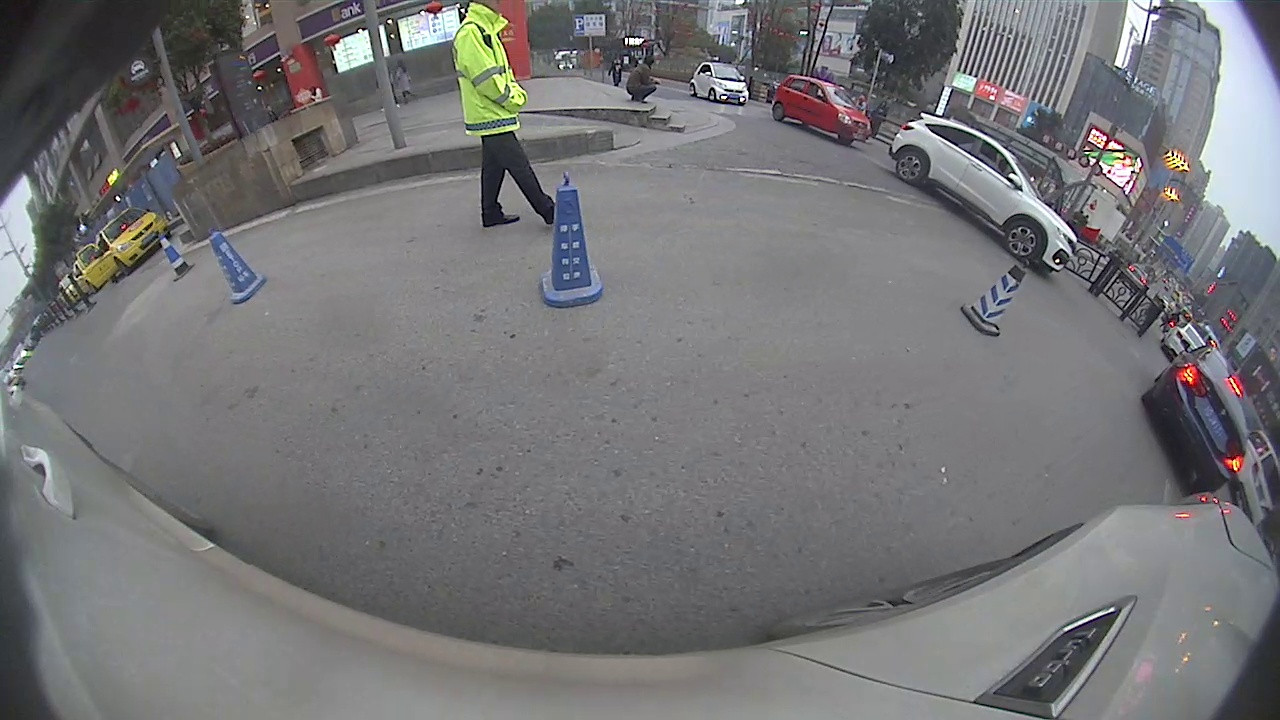car: (888, 110, 1081, 273), (1139, 343, 1251, 493), (72, 203, 173, 290), (770, 74, 874, 147), (689, 62, 751, 108)
front: (1004, 216, 1043, 261), (112, 259, 131, 277), (708, 89, 717, 104)
person: (450, 3, 558, 227)
rear: (896, 149, 929, 184), (768, 101, 788, 122), (688, 83, 696, 98)
